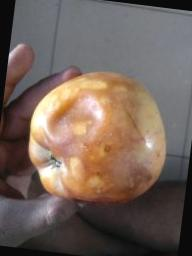Apple Rotten: (17, 62, 177, 215)
